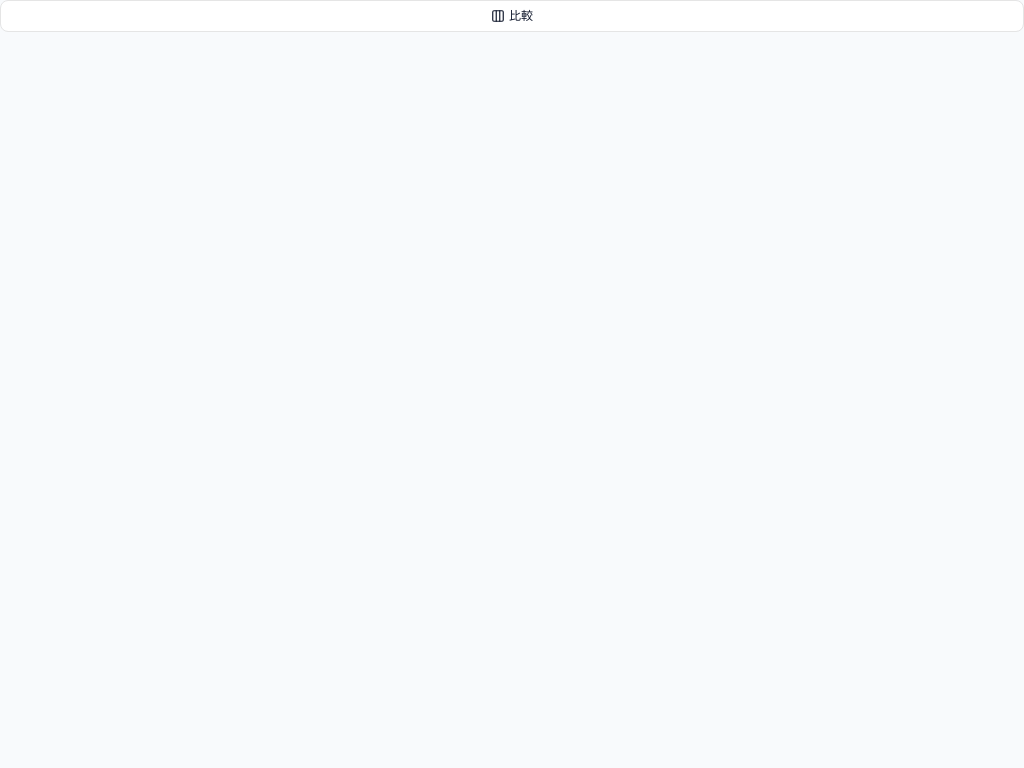
BuildComparisonDialog › 取得中に選択を減らすと読み込み表示が消える
Click the button "比較": {"x": 512, "y": 16} x1=0 y1=0 x2=1023 y2=32
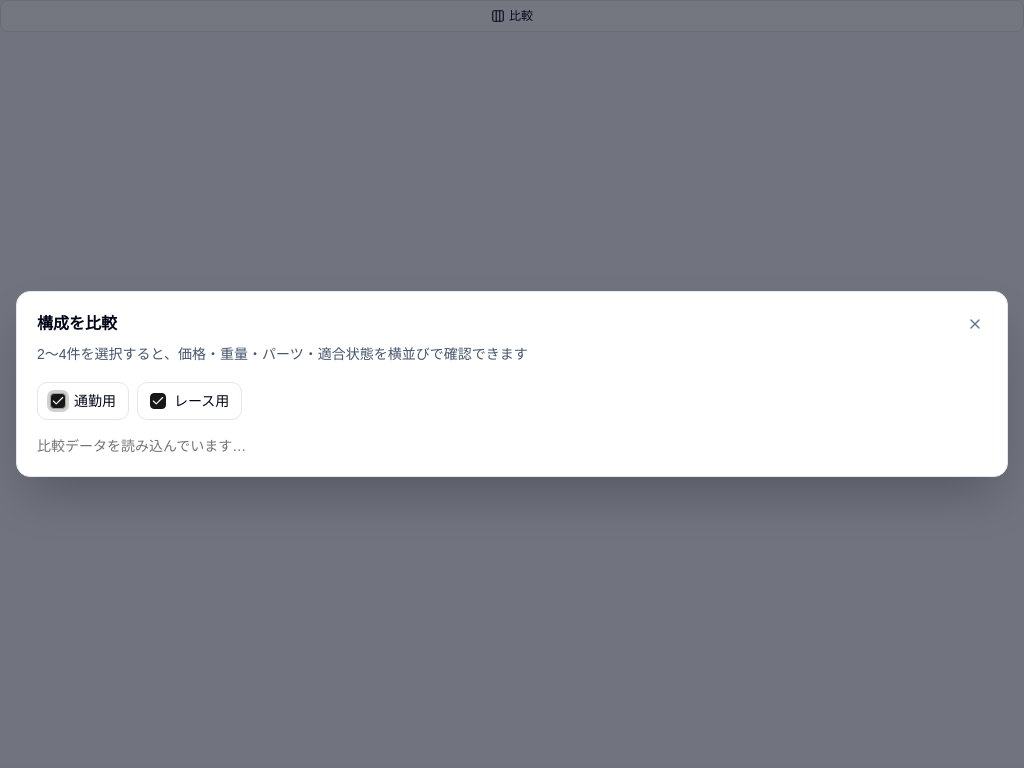
Expected: the text "比較データを読み込んでいます…" is shown, x1=37 y1=438 x2=246 y2=454
// 2件とも外して選択を0件にする
Click the checkbox next to "通勤用": {"x": 58, "y": 401} x1=50 y1=393 x2=66 y2=409
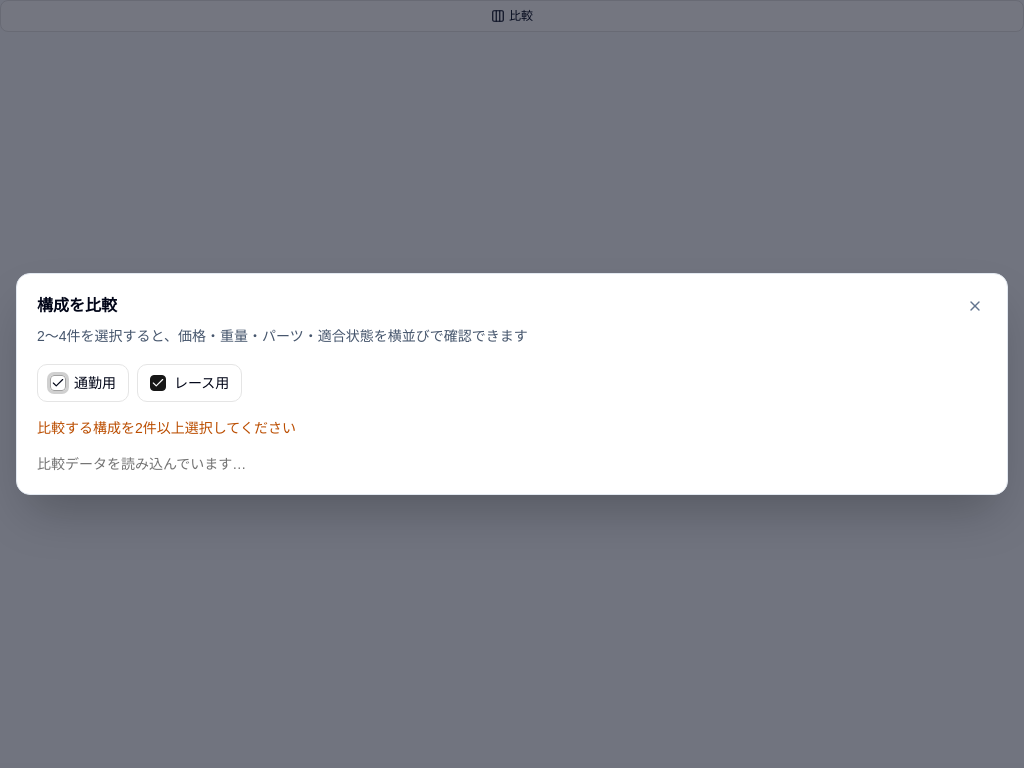
Click the checkbox next to "レース用": {"x": 158, "y": 383} x1=150 y1=375 x2=166 y2=391
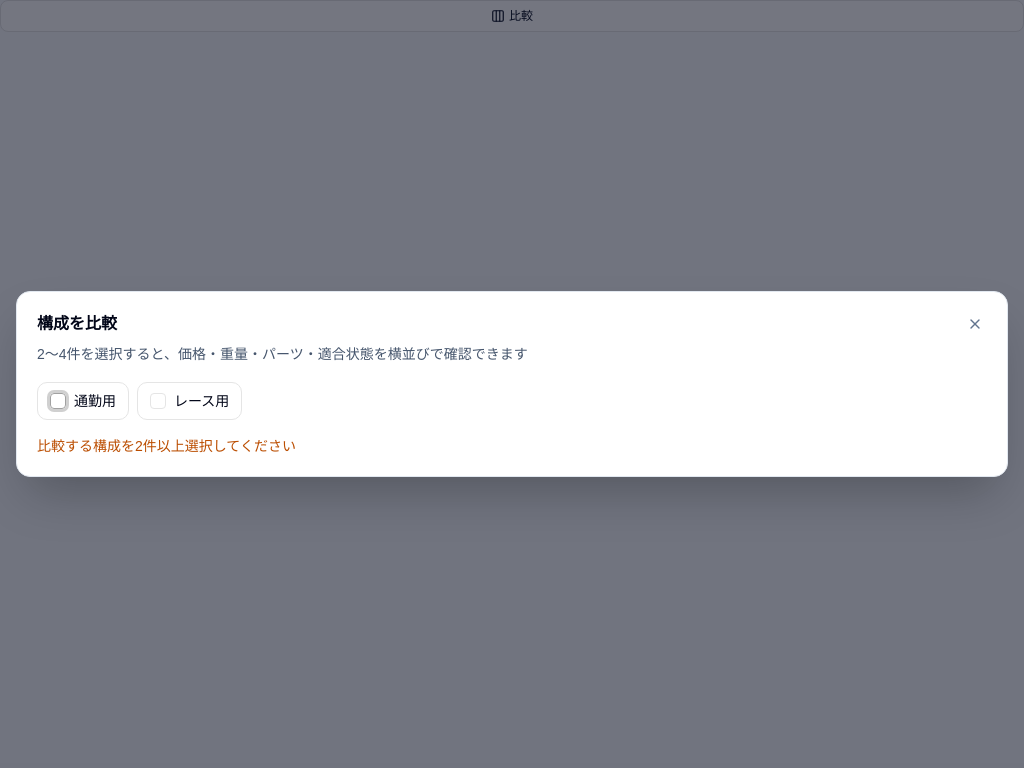
Expected: the text "比較データを読み込んでいます…" is gone
